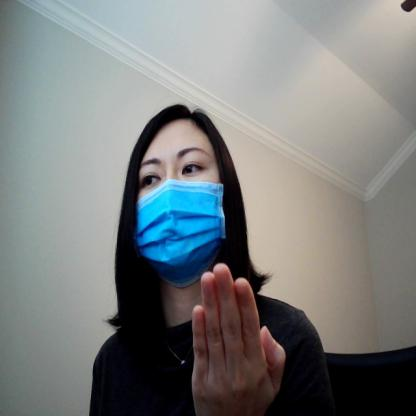thanks: (190, 259, 294, 415)
